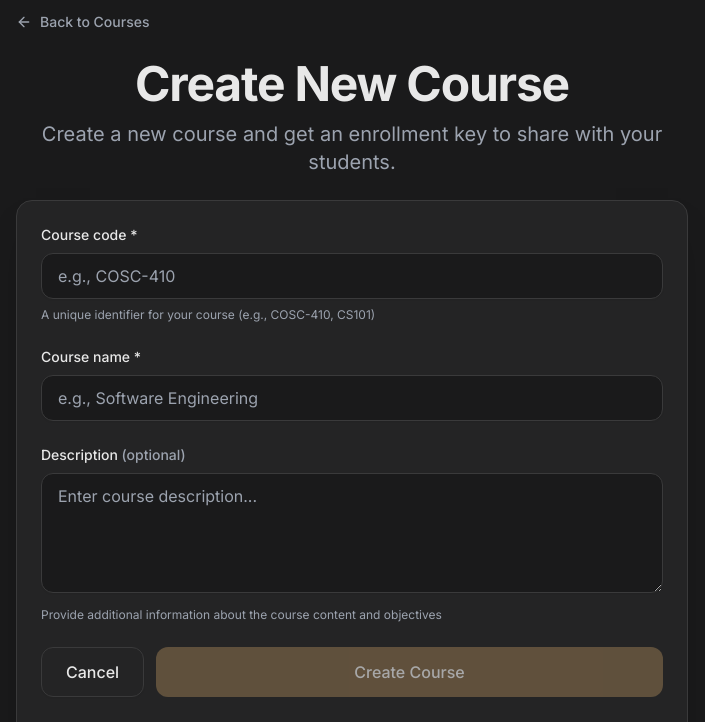
it: CreateCoursePage › creates course successfully
Type "COSC-300" into the field labelled "Course code *" at (352, 276), box 41,253 -> 663,299
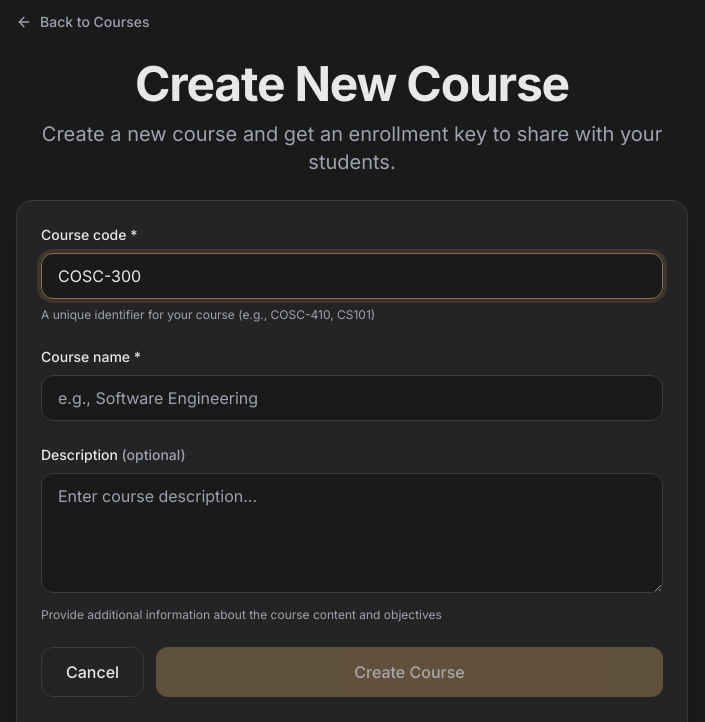
Type "Data Structures" into the field labelled "Course name *" at (352, 398), box 41,375 -> 663,421
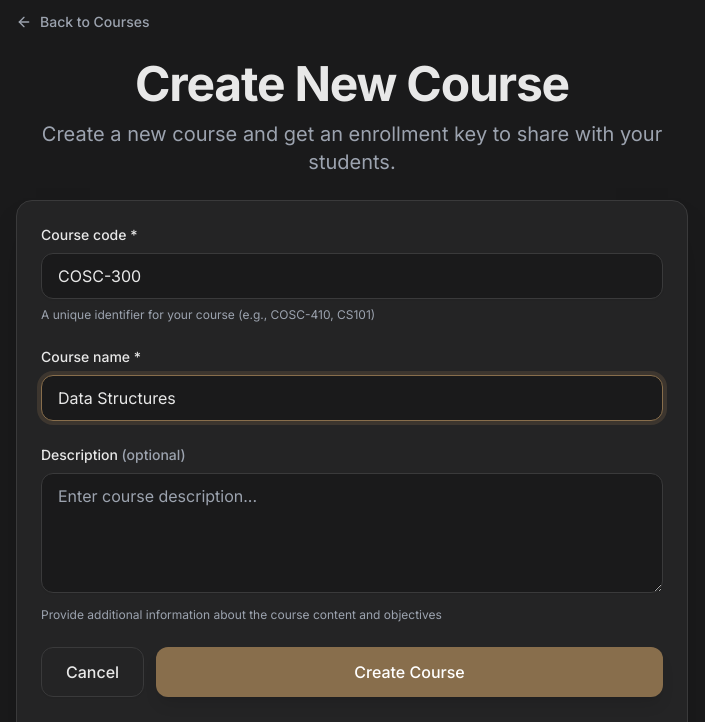
Type "Learn data structures" into the text box labelled "Description (optional)" at (352, 533), box 41,473 -> 663,593
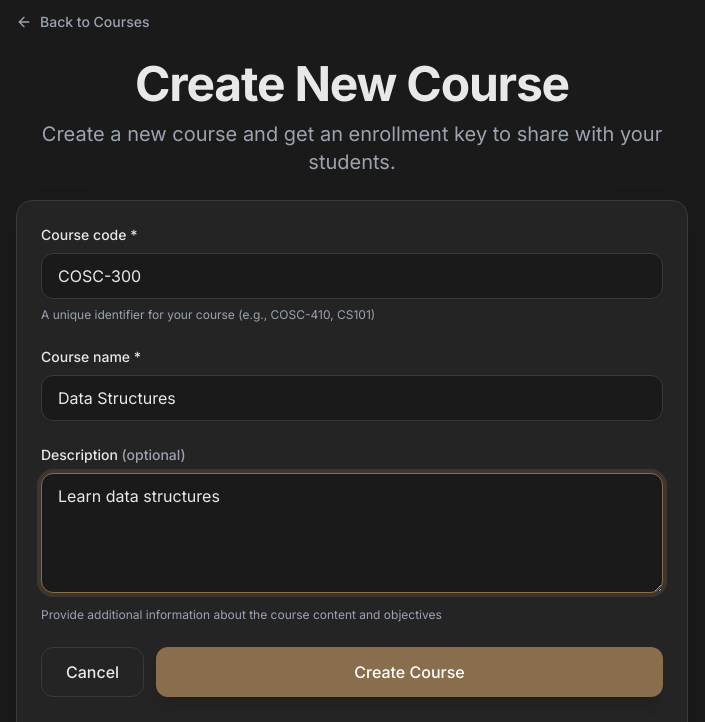
Click the button "Create Course" at (410, 672), box 156,647 -> 663,697
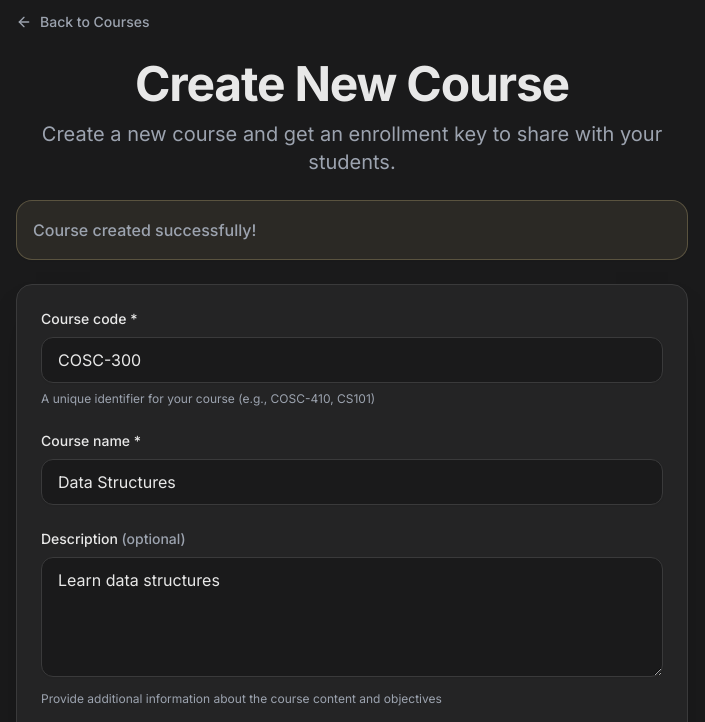
Check: the text "Course created successfully!" is shown, box 33,220 -> 256,240
